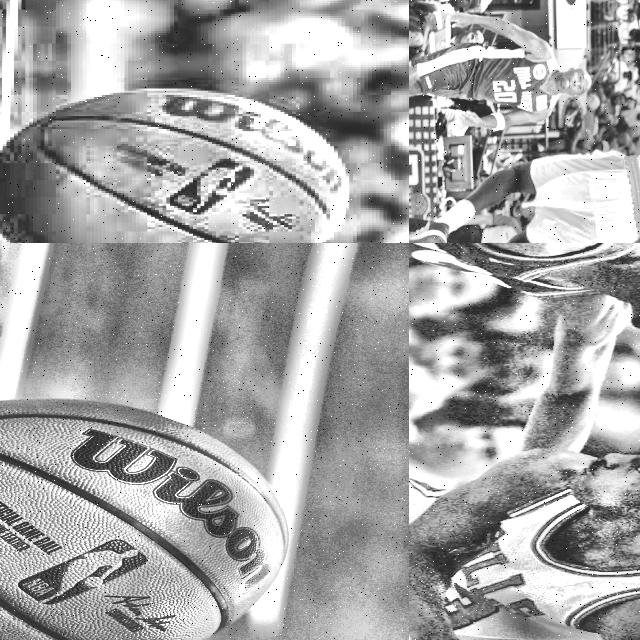Basketball: (0, 399, 288, 640), (0, 91, 348, 243)
